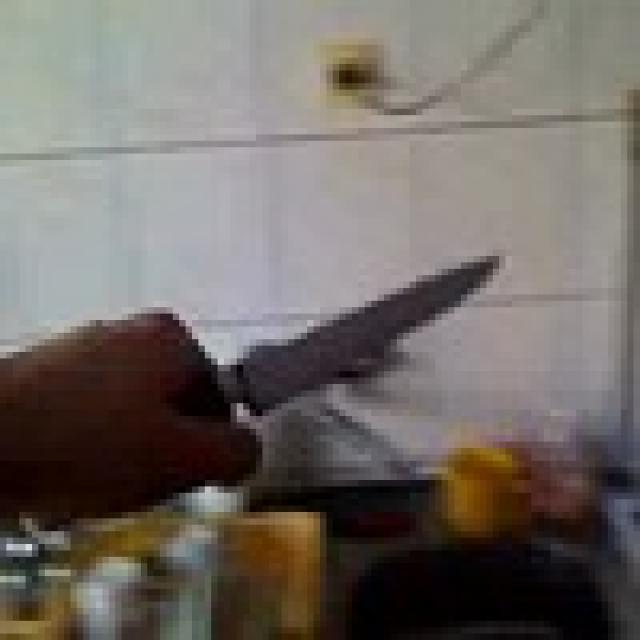Knife: (198, 237, 518, 436)
